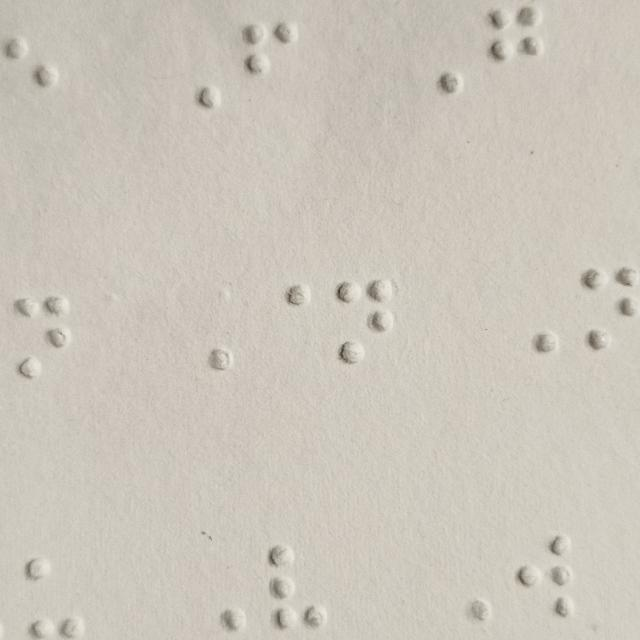ENYE: (335, 281, 392, 365)
F: (242, 24, 298, 108)
G: (488, 8, 545, 93)
N: (581, 269, 637, 354)
V: (269, 544, 325, 628)
W: (515, 536, 572, 621)
capital: (406, 9, 463, 94), (437, 540, 494, 625), (181, 285, 237, 370), (165, 26, 221, 111), (189, 546, 245, 631), (501, 269, 557, 354)
dot_4: (256, 282, 313, 366)
e: (2, 37, 58, 122)
n: (15, 294, 72, 378)
u: (26, 555, 83, 640)
